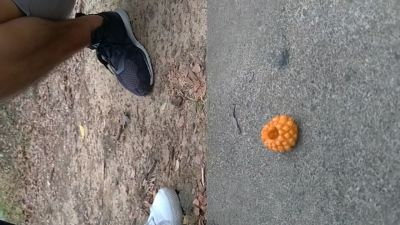eggs: (261, 114, 300, 153)
